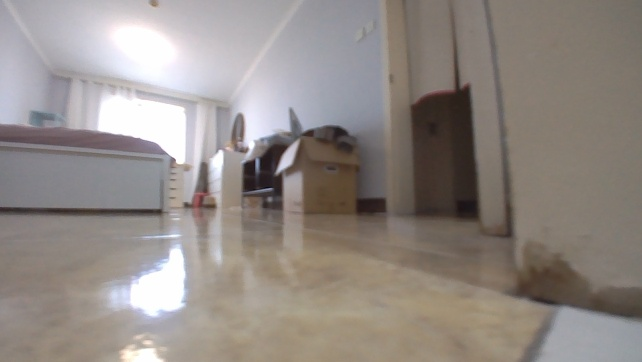bed1: (0, 120, 180, 214)
